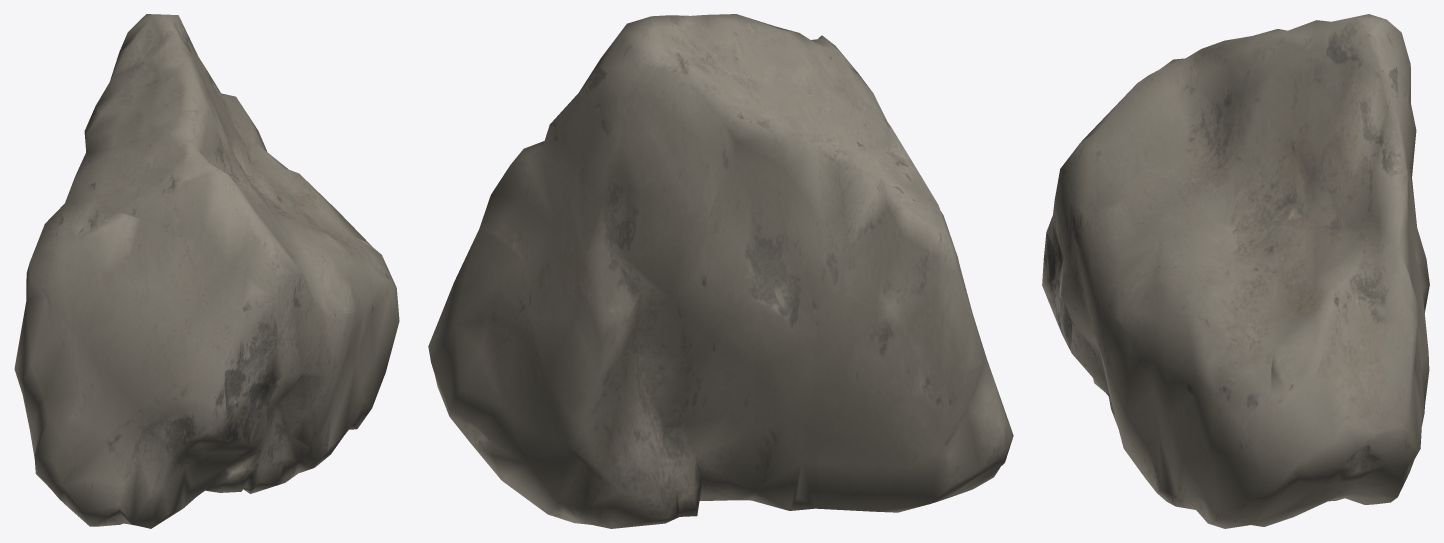
The model's file is moon_rock_03_hi.glb.
The picture shows the model from 3 angles, left to right: view 1: azimuth 30°, elevation 25°; view 2: azimuth 150°, elevation 25°; view 3: azimuth 270°, elevation 25°; orthographic projection. The views are drawn at different scales.
Parts seen in each view (by area): view 1: moon_rock_03_hi; view 2: moon_rock_03_hi; view 3: moon_rock_03_hi.
Part boxes in pixels (left/top/right/bottom): moon_rock_03_hi: left=14, top=14, right=399, bottom=528; moon_rock_03_hi: left=428, top=14, right=1013, bottom=528; moon_rock_03_hi: left=1042, top=14, right=1429, bottom=528.
Bounding box in the file's own units: 1 × 1 × 0.7679.
1 material, 1 textured.
